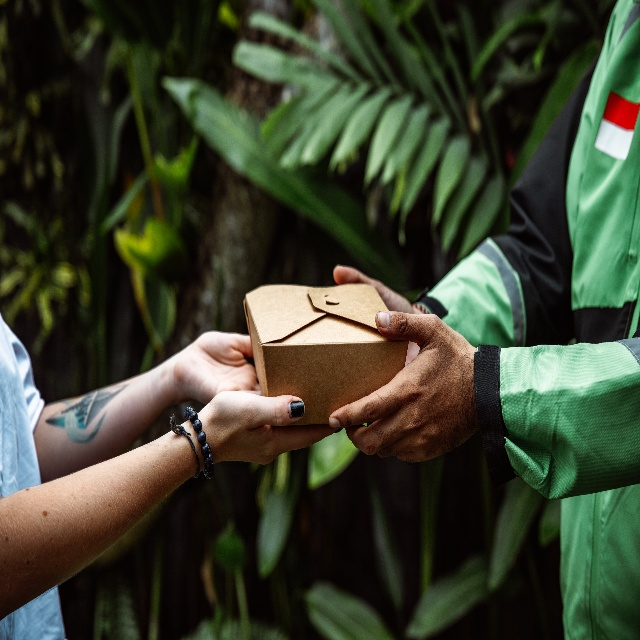Sin_guantes: (330, 300, 477, 456), (204, 390, 335, 456), (331, 261, 423, 339), (175, 330, 261, 402)
